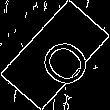O_NW: (21, 22, 89, 88)
